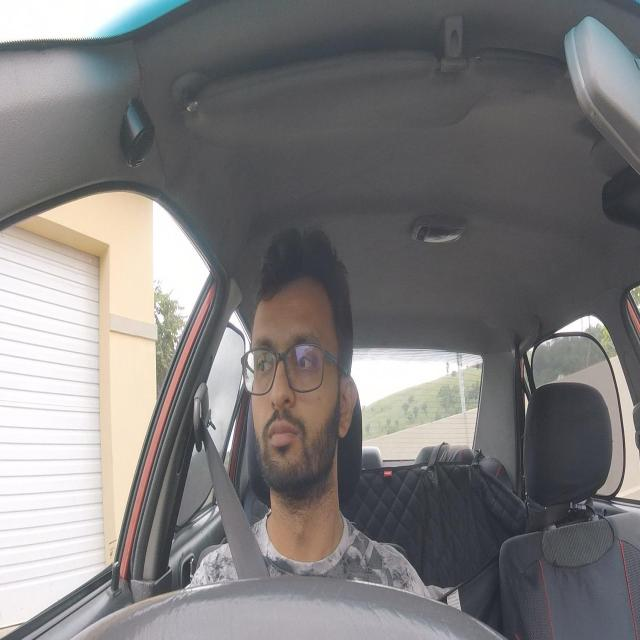open: (288, 327, 323, 384), (249, 334, 278, 390)
